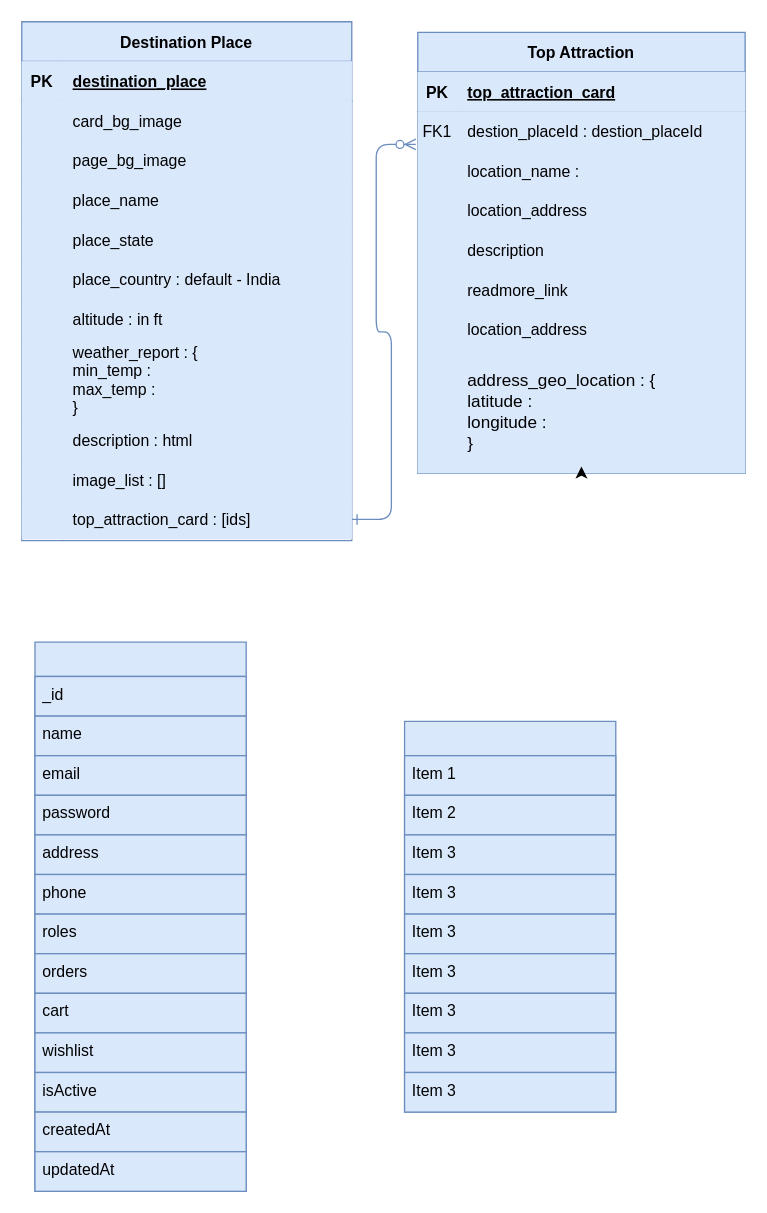
This 767x1213 diagram has some shape labels left out. The shapes that lost their labels are listed below. From the top down, each one's box as (x1, y1, x2, y2) in pixels, then its label:
(34, 641, 246, 1191): User
(403, 720, 616, 1112): List
